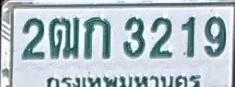1: (181, 16, 195, 58)
2: (149, 16, 172, 58), (21, 17, 44, 59)
3: (123, 16, 145, 58)
9: (204, 16, 226, 57)
A01: (83, 16, 111, 59)
A18: (49, 16, 80, 58)
